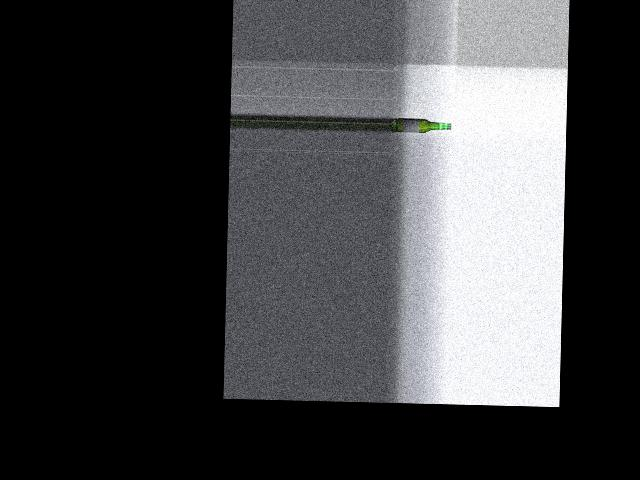beer: (396, 118, 451, 133)
